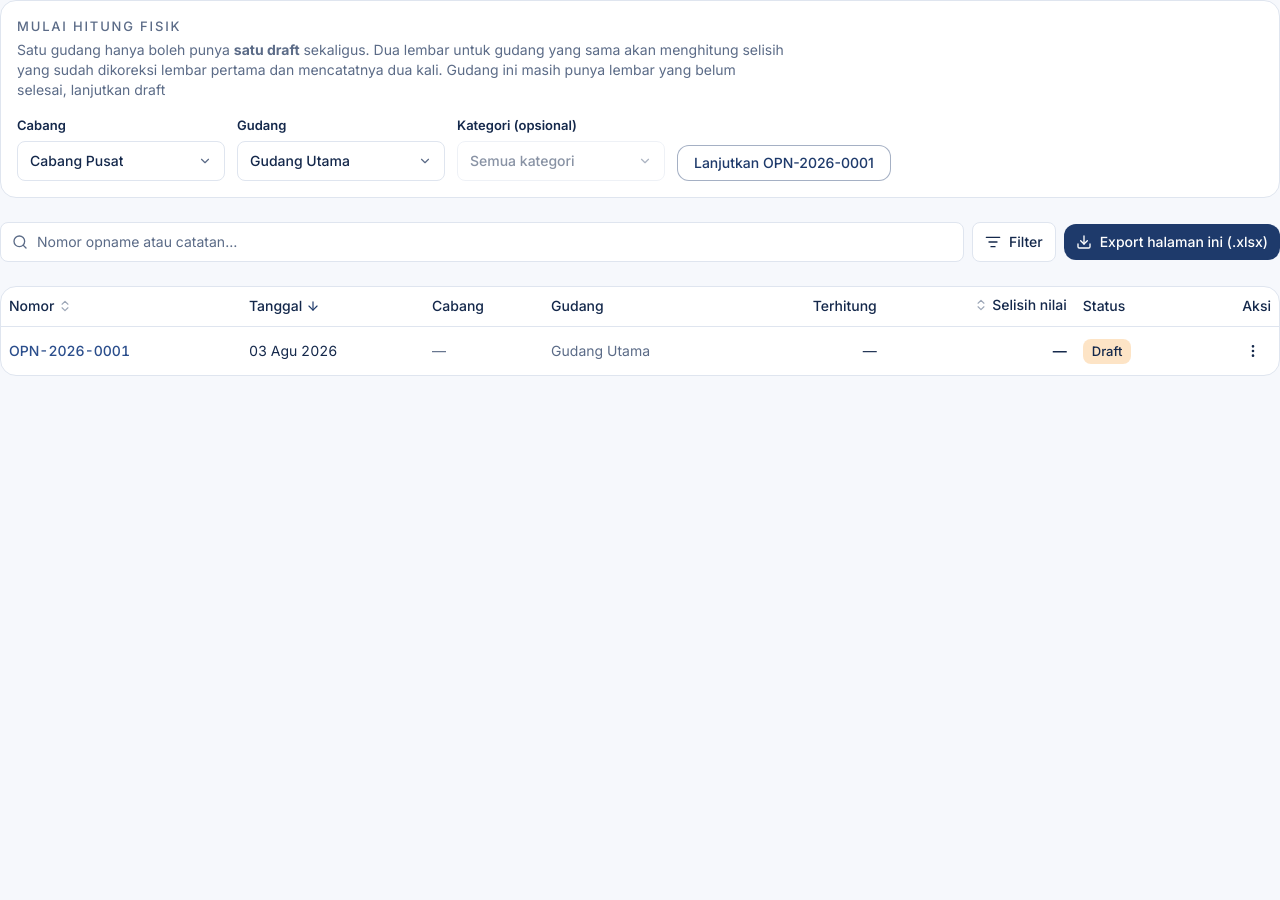
Scenario: OpnameScreen › the filter panel › narrows by branch, and sends it to the server
Expected: the link "OPN-2026-0001" is shown, [9,342,130,359]
Click the button "Filter" at (1014, 242), box [972,222,1056,262]
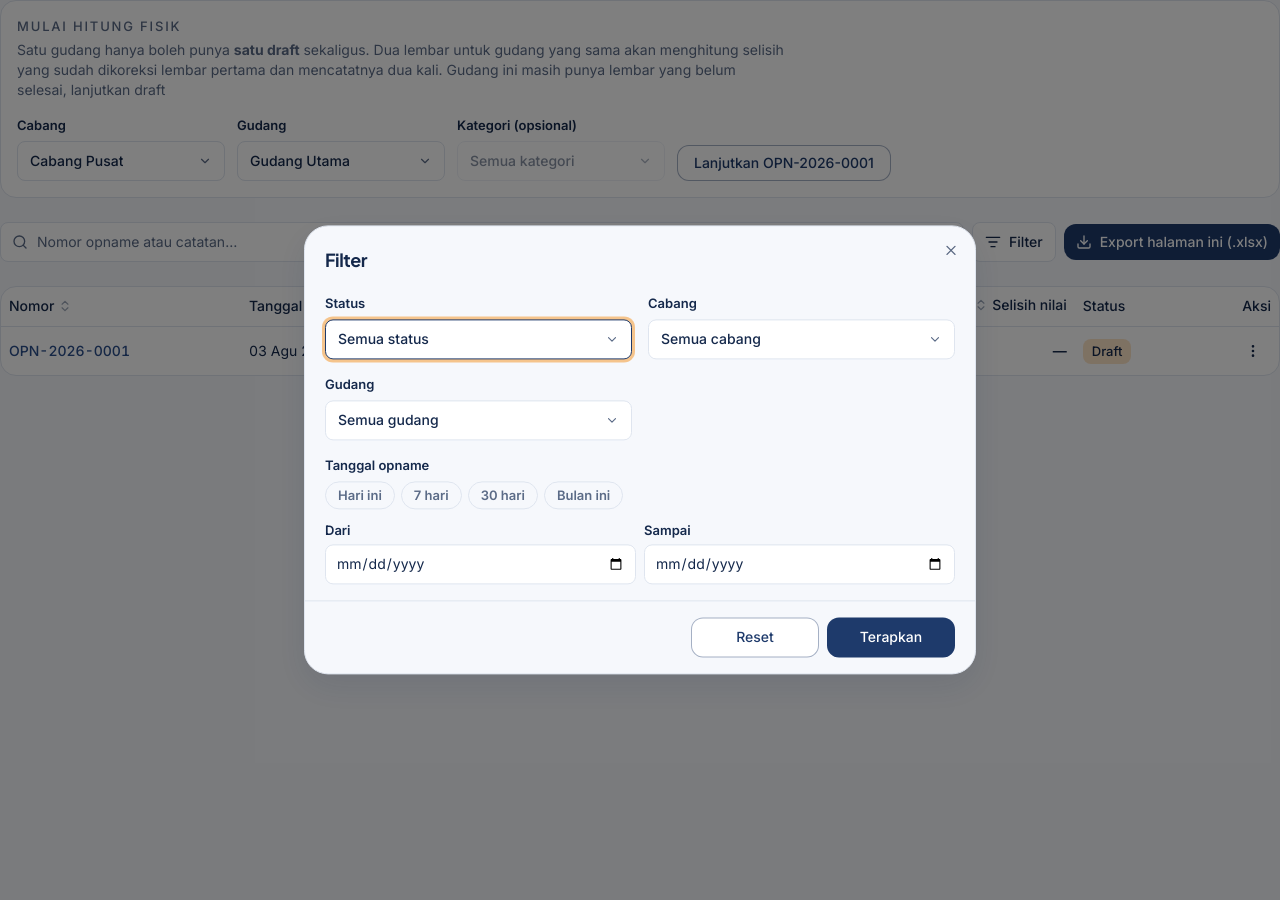
Click the button with aria-label "Filter cabang" at (711, 339), box [648,319,955,359]
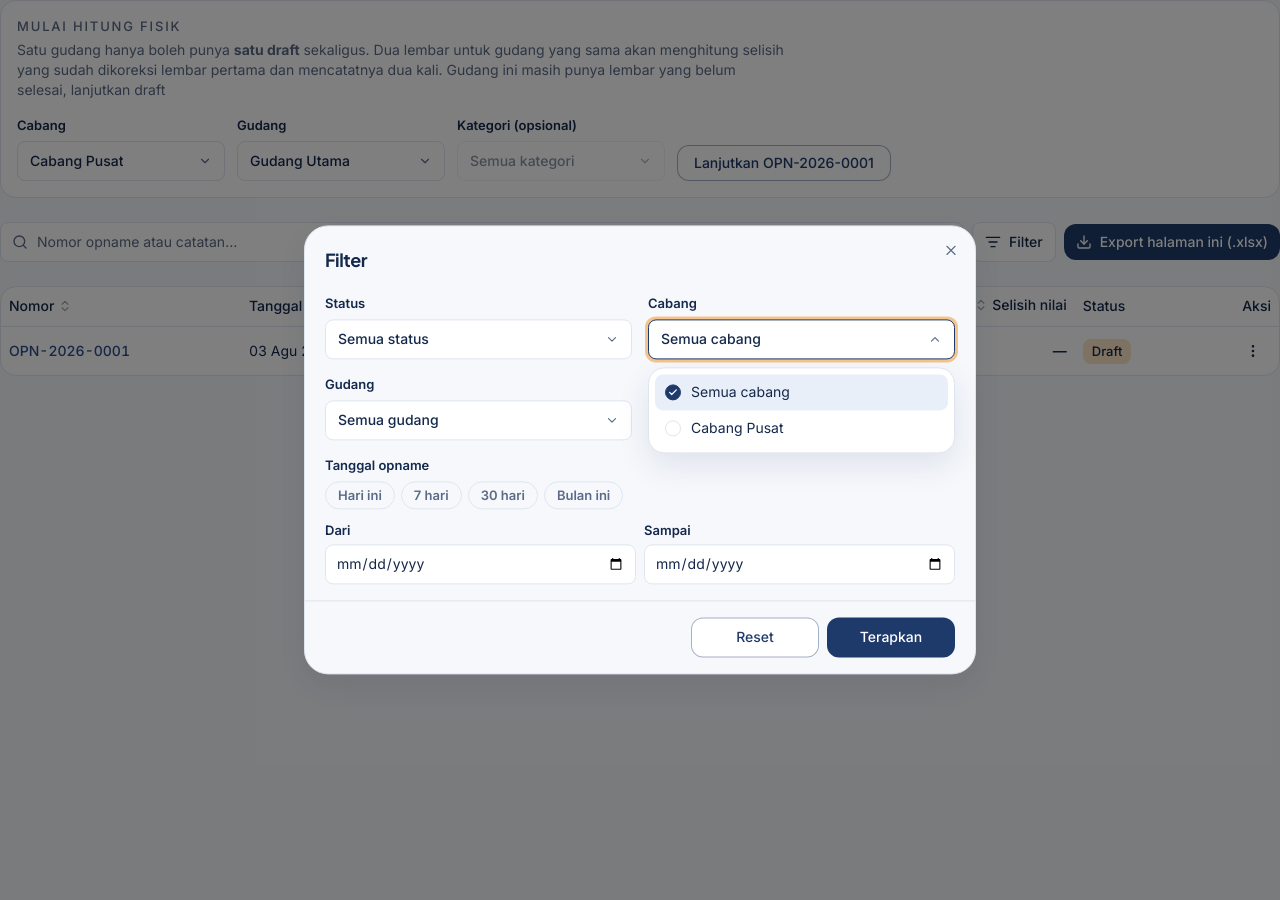
Click the option "Cabang Pusat" at (724, 428), box [665,419,784,436]
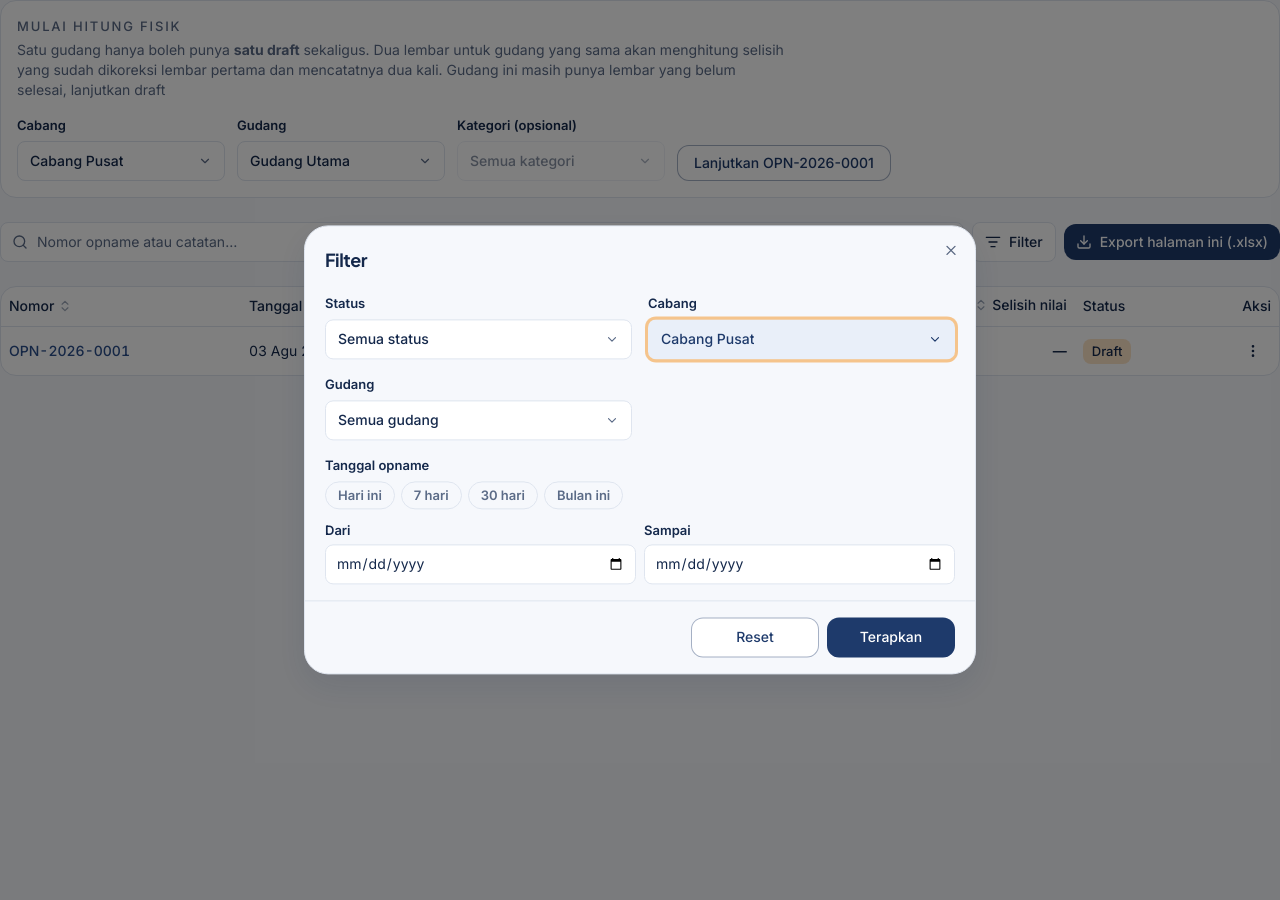
Click the button "Terapkan" at (891, 638), box [827,618,955,658]
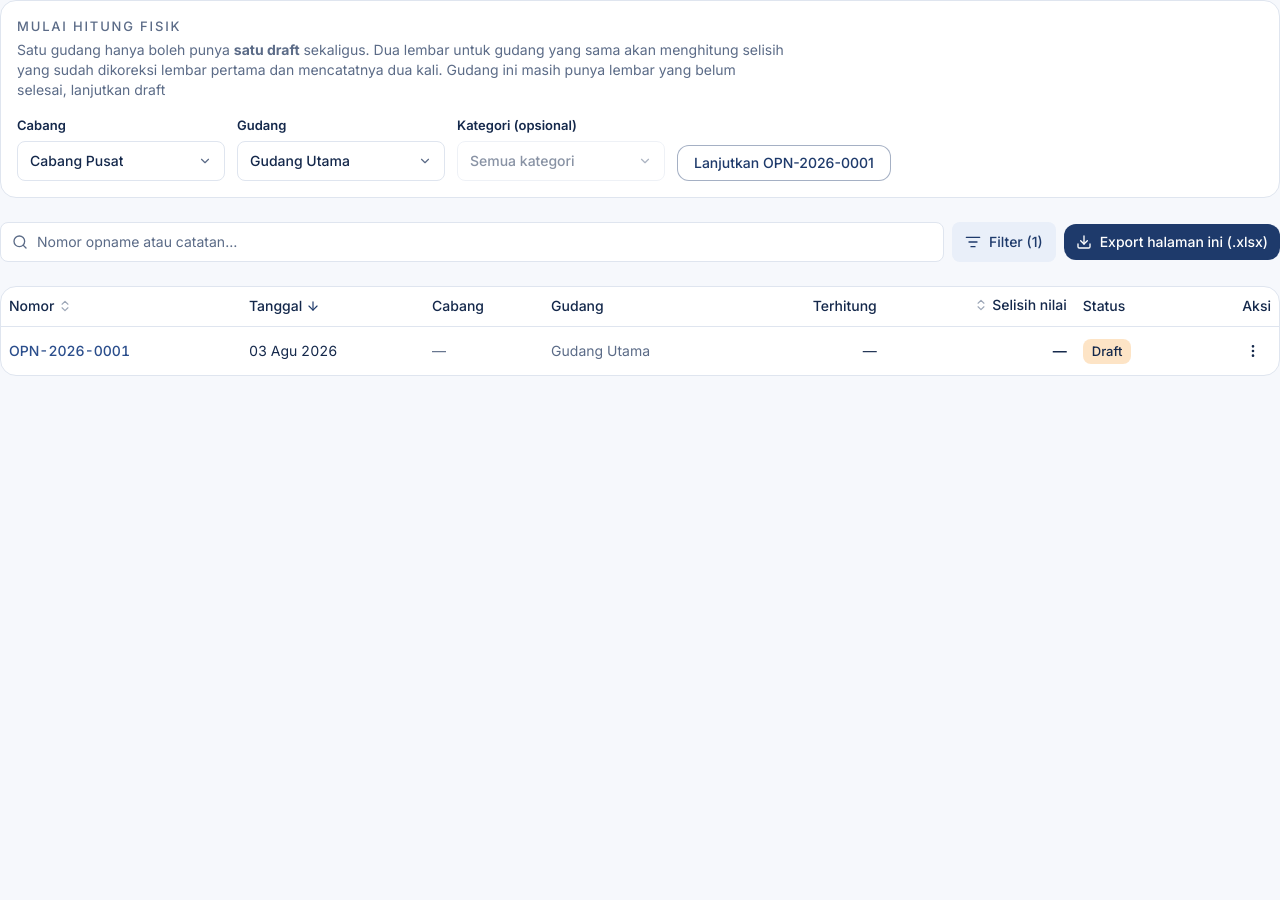
Expected: the button "Filter (1)" is shown, [952,222,1056,262]
